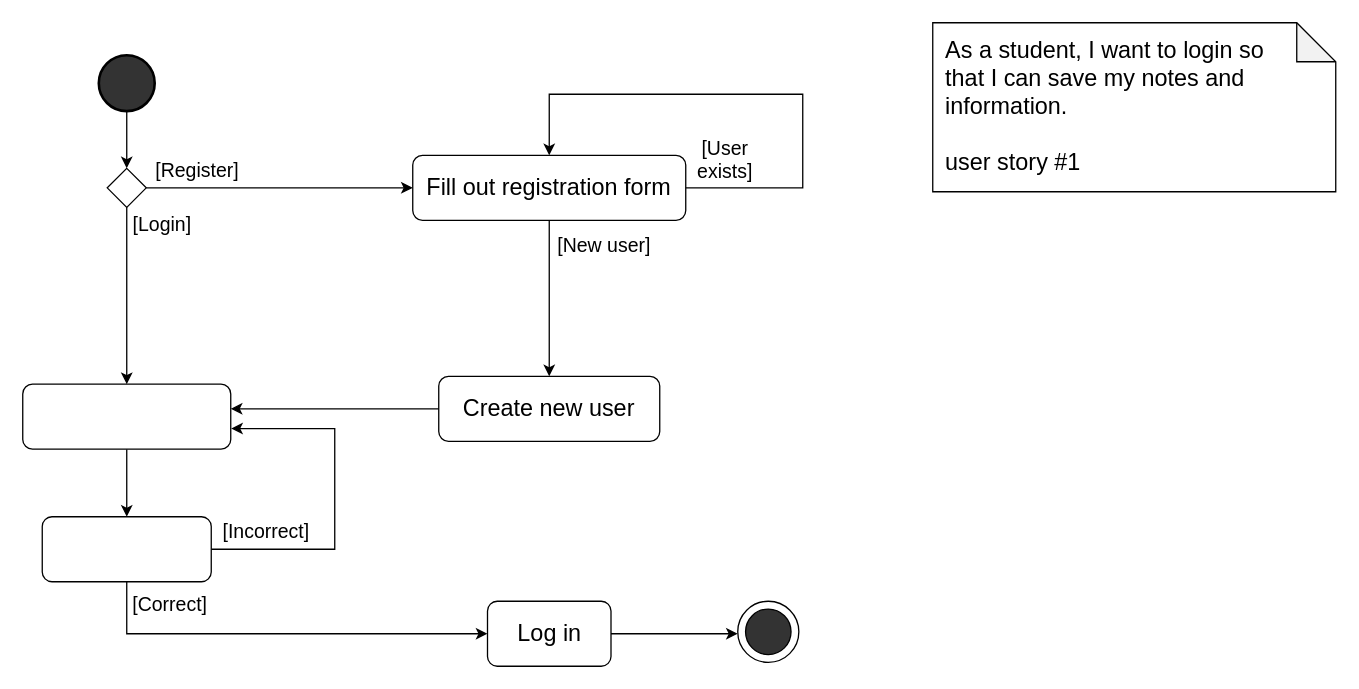
Some shapes in this 1359 by 689 pixel diagram are drawn without their labels. Each missing label, with the centre of its shape:
Fill out login form: point (126, 416)
Validate info: point (126, 548)
